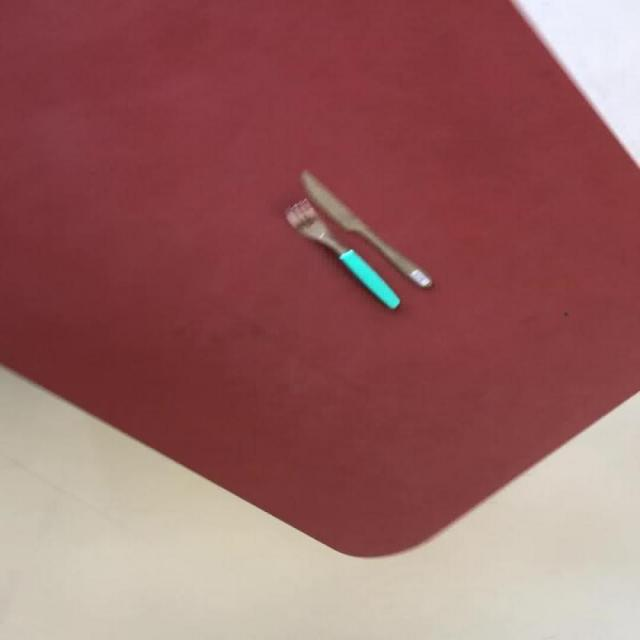Fork: (282, 196, 399, 309)
Knife: (298, 168, 433, 289), (282, 196, 400, 309)
